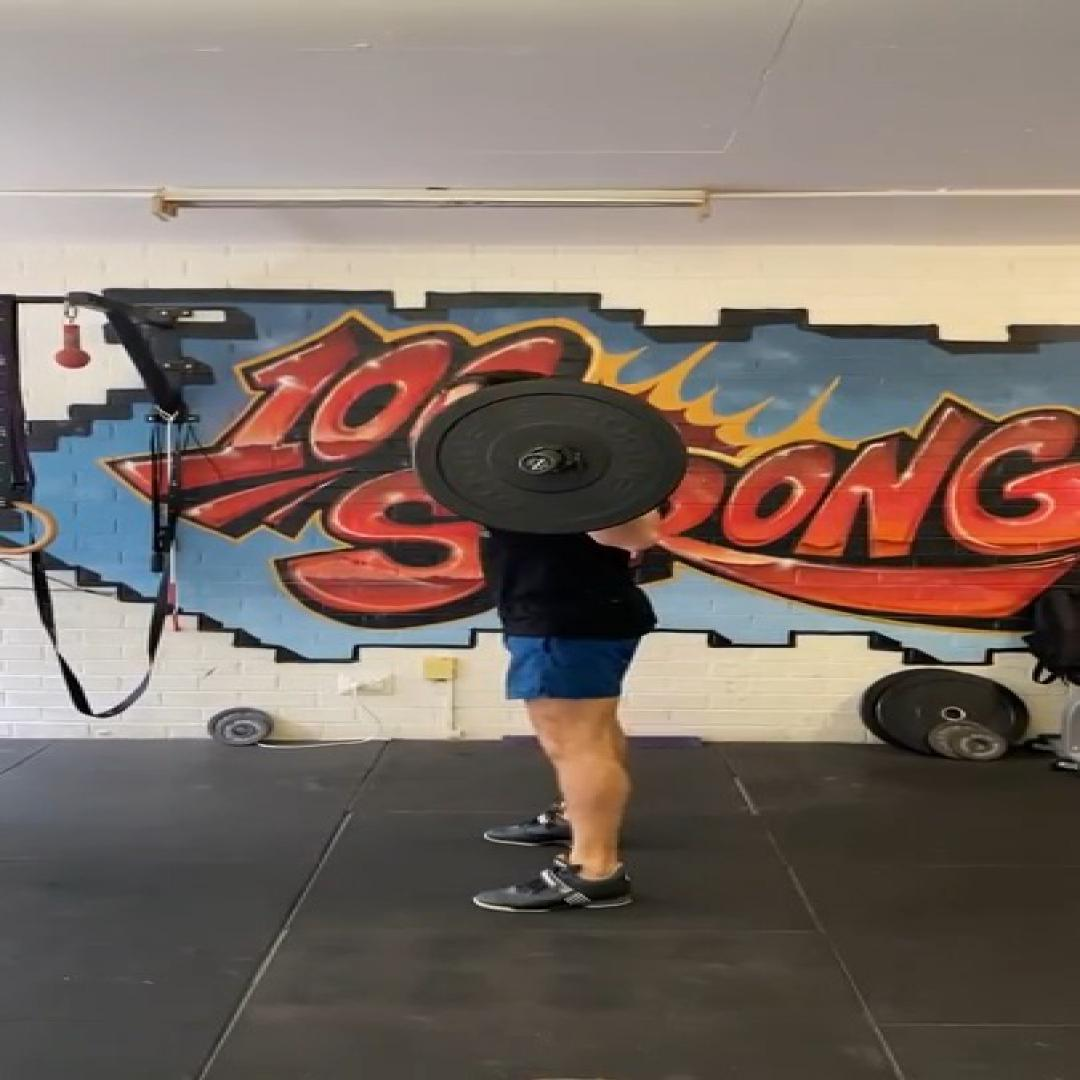Bar: (516, 452, 559, 475)
Barbell: (414, 379, 686, 535)
